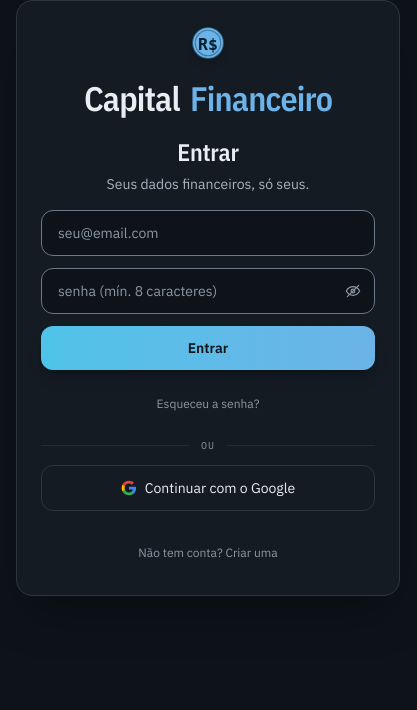
Auth — porta de entrada da recuperação › o link não aparece no modo criar
Click the button "Não tem conta? Criar uma". click: coordinates (208, 553)
box: 41,531 -> 375,575
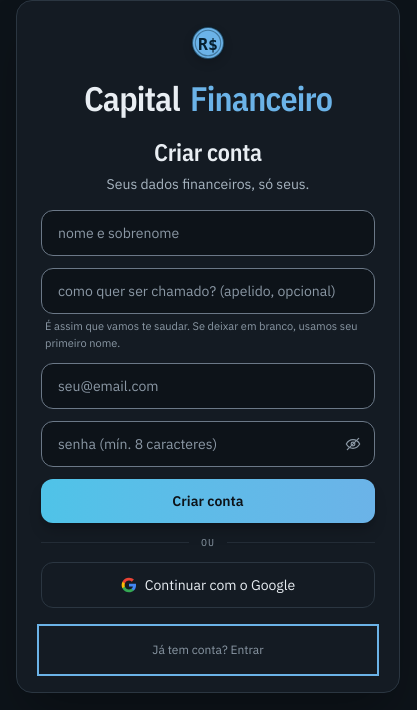
Check: the button "Esqueceu a senha" is gone
